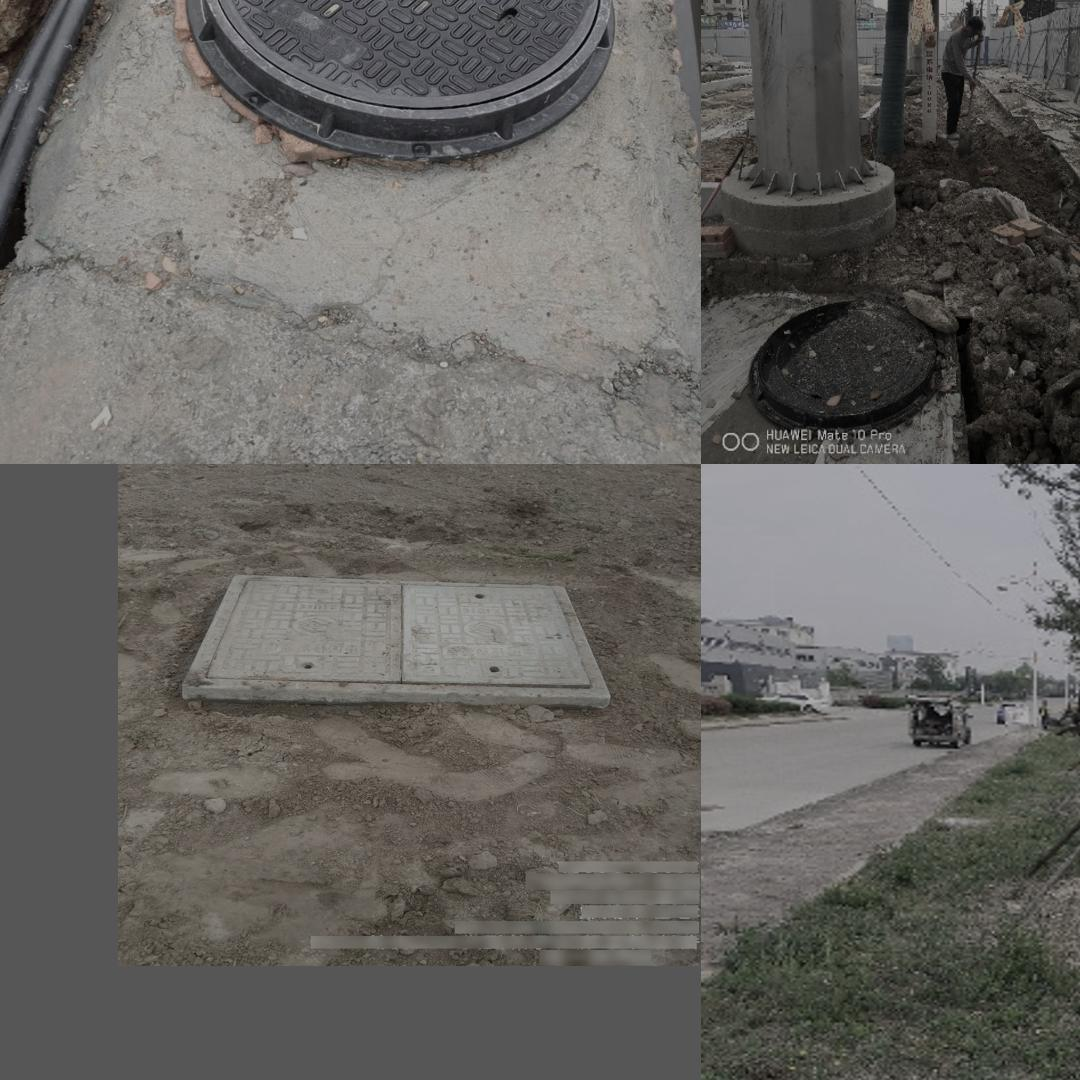good: (186, 0, 616, 161), (181, 574, 609, 693), (746, 294, 943, 438)
